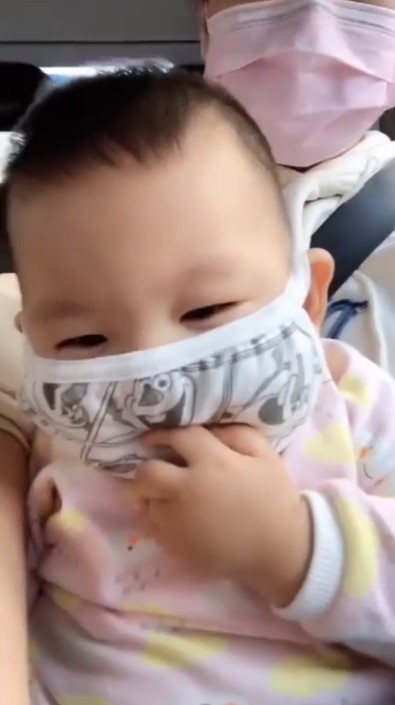face_with_mask: (6, 86, 336, 481)
